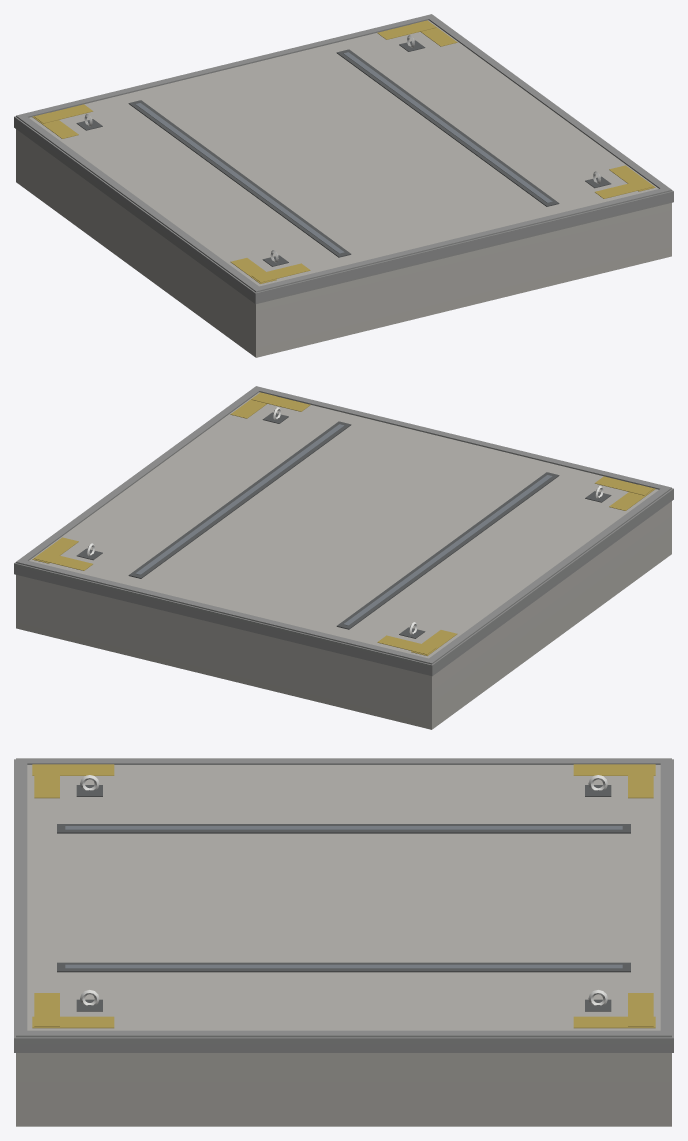
The model's file is pad_plate.glb.
3 views of the same model, one above another, from view 1: azimuth 30°, elevation 25°; view 2: azimuth 150°, elevation 25°; view 3: azimuth 270°, elevation 25° (orthographic). The views are drawn at different scales.
Visible parts, largest first — view 1: pad_plate; view 2: pad_plate; view 3: pad_plate.
Boxes of the visible parts, x1,y1,x2,y2 form: pad_plate: (14, 14, 673, 357); pad_plate: (14, 386, 673, 729); pad_plate: (14, 758, 673, 1126).
Bounding box in the file's own units: 4.02 × 0.705 × 4.02.
